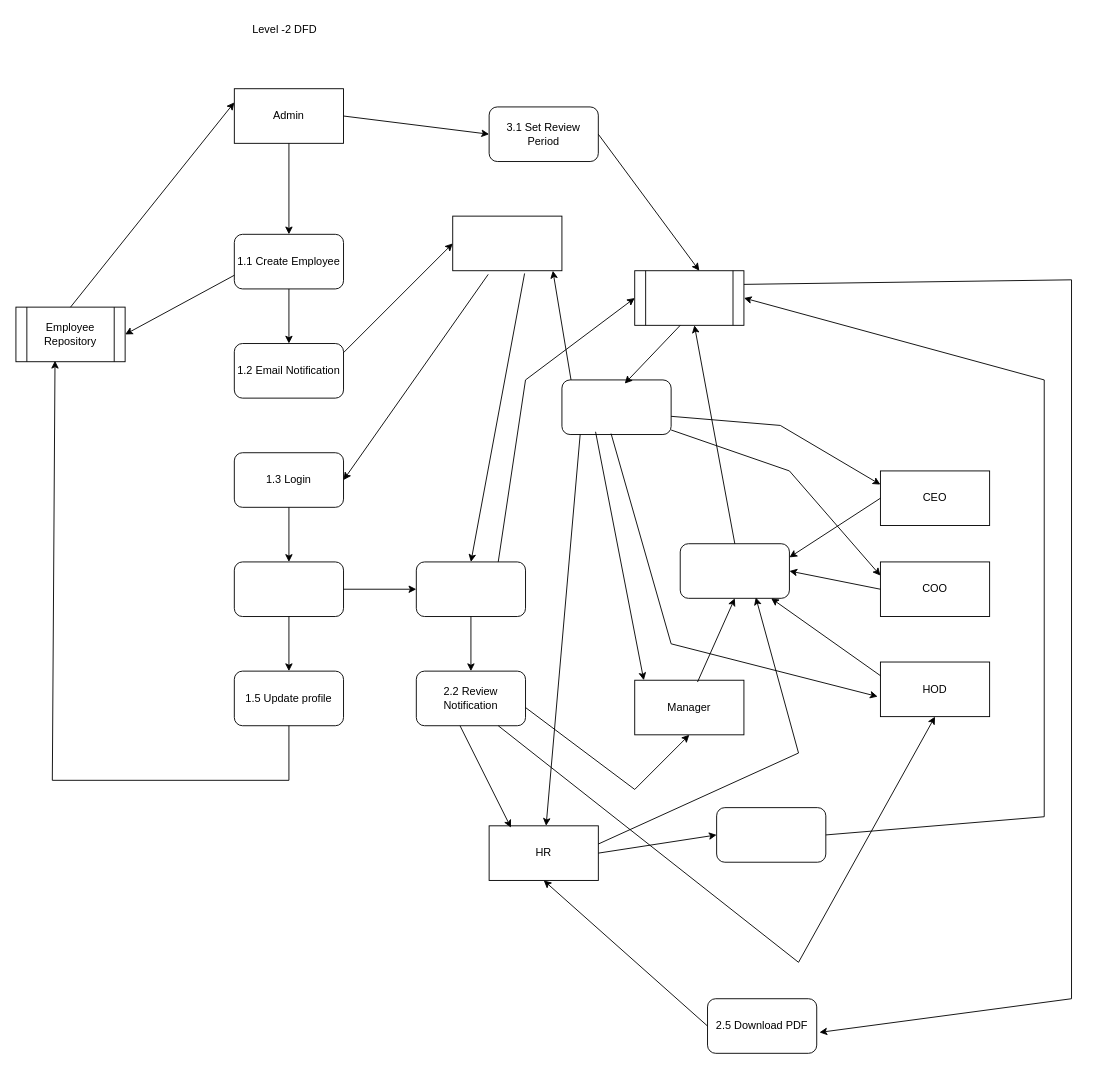
This 1095x1069 diagram has some shape labels left out. Each missing label, with the centre of its shape:
"1.4 Access profile" goes at (x=288, y=589).
"2.1 Self Appraisal" goes at (x=470, y=589).
"2.3 Review Salary" goes at (x=771, y=834).
"2.4 Review/ Approve Appraisal" goes at (x=734, y=570).
"3.2 Deadline Notification" goes at (x=616, y=407).
"Employee" goes at (x=507, y=243).
"Performance Appraisal DataStore" goes at (x=689, y=297).
